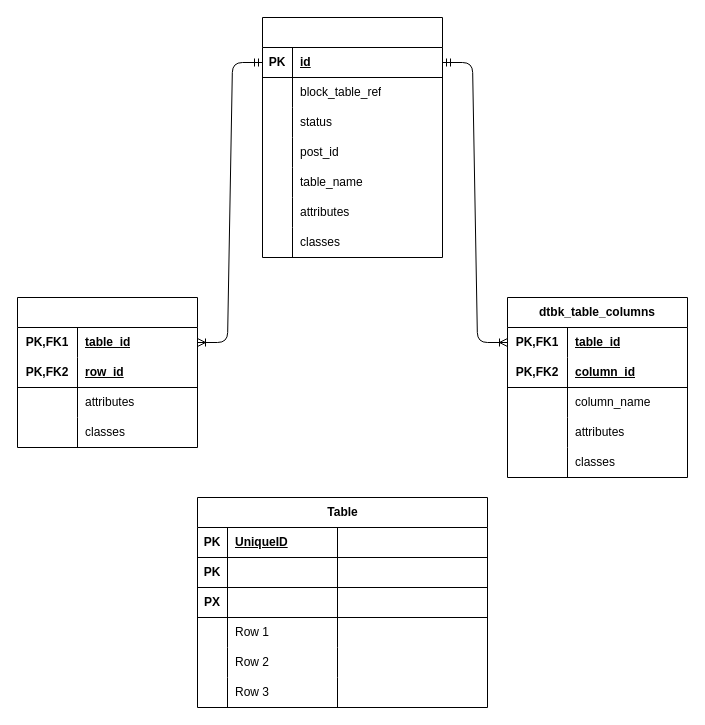
Image size: 705x725. Some labels were removed from this diagram. The shapes that lost their labels are listed below. From the top down, each one's box as (x1, y1, x2, y2) in pixels, then its label:
(262, 16, 442, 258): dtbk_tables
(16, 296, 198, 448): dtbk_table_rows
